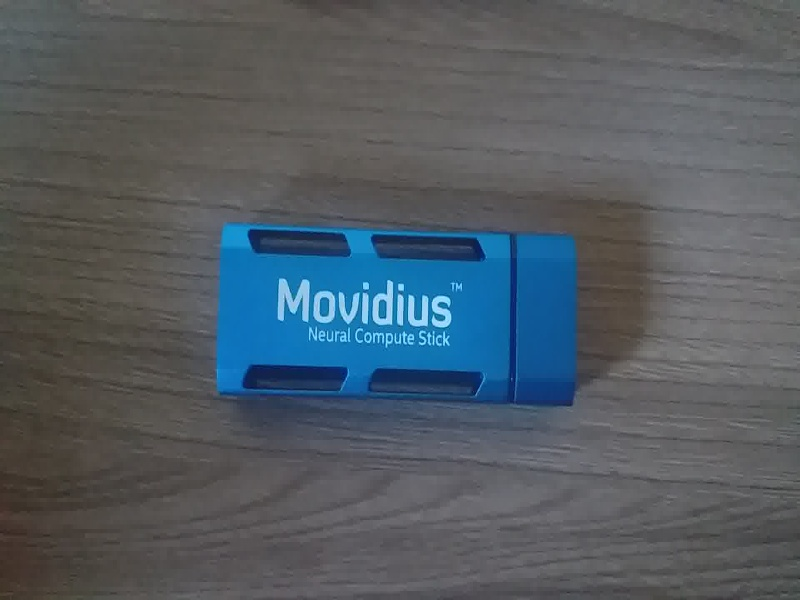movidius: (209, 210, 590, 421)
